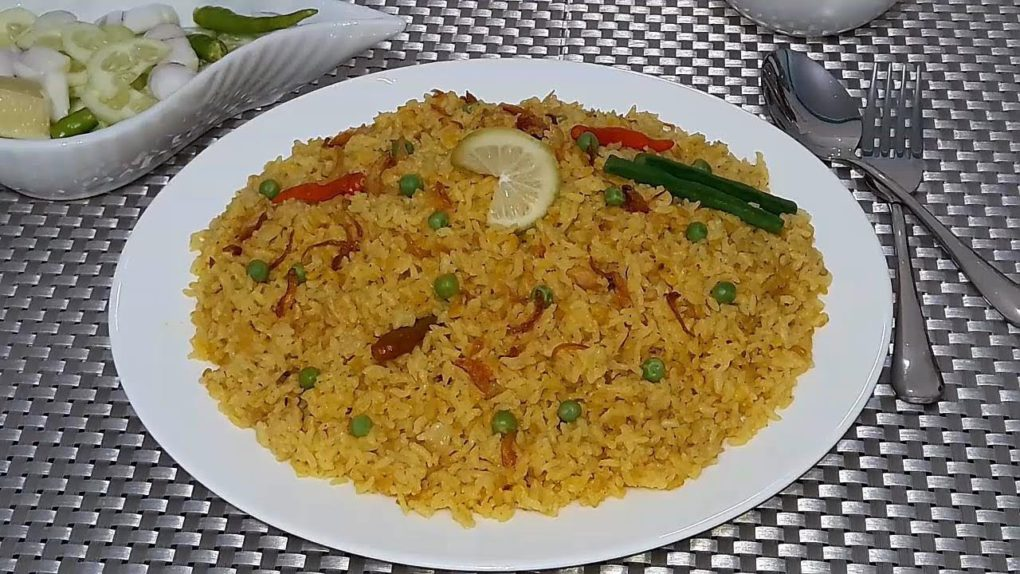khichuri: (203, 98, 824, 503)
